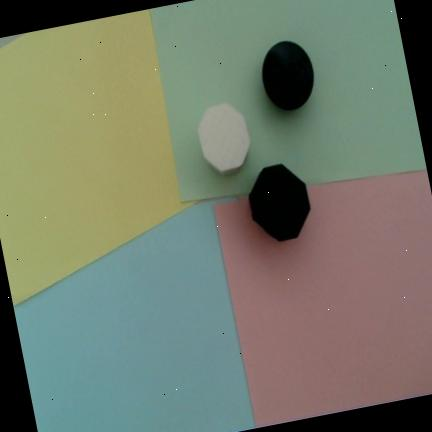Esfera: (262, 41, 314, 110)
Prisma_hexagonal: (248, 164, 311, 241), (198, 101, 251, 176)
